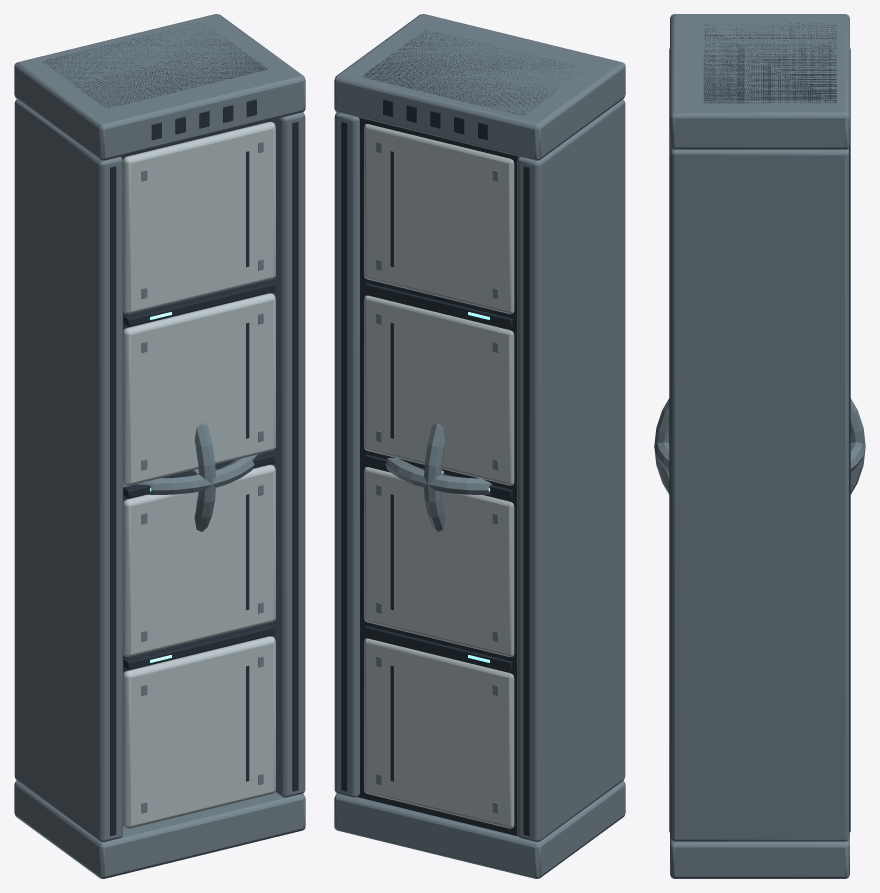
Rendered from kit-v1.glb.
3 views of the same model, side by side, from view 1: azimuth 30°, elevation 25°; view 2: azimuth 150°, elevation 25°; view 3: azimuth 270°, elevation 25° (orthographic).
Parts seen in each view (by area): view 1: relay-fin_alloy, relay-fin_ceramic, relay-fin_graphite, reactor-core_alloy; view 2: relay-fin_alloy, relay-fin_ceramic, relay-fin_graphite, reactor-core_alloy, tactical-cover_alloy; view 3: relay-fin_alloy, relay-fin_graphite, tactical-cover_alloy, reactor-core_alloy.
Boxes of the visible parts, x1,y1,x2,y2 form: relay-fin_alloy: (14,14,305,878); relay-fin_ceramic: (122,121,275,828); relay-fin_graphite: (43,23,298,835); reactor-core_alloy: (123,422,261,531); relay-fin_alloy: (334,14,625,878); relay-fin_ceramic: (364,124,514,828); relay-fin_graphite: (341,31,581,835); reactor-core_alloy: (385,422,491,531); tactical-cover_alloy: (572,399,593,543); relay-fin_alloy: (670,14,849,878); relay-fin_graphite: (669,23,850,831); tactical-cover_alloy: (739,431,780,563); reactor-core_alloy: (654,398,865,494).
Size of the model in its own units: 4 by 14 by 3.5.
